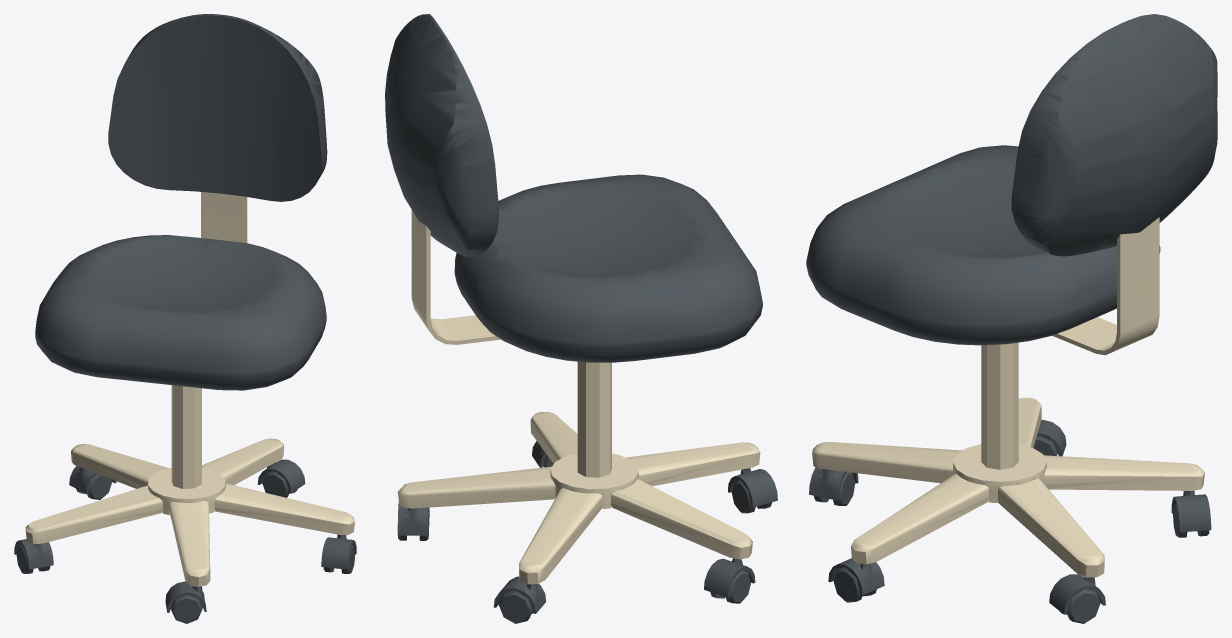
File: Chairs.fbx
The picture shows the model from 3 angles, left to right: view 1: azimuth 30°, elevation 25°; view 2: azimuth 150°, elevation 25°; view 3: azimuth 270°, elevation 25°; orthographic projection. The views are drawn at different scales.
Parts seen in each view (by area): view 1: geo_110, geo_109; view 2: geo_110, geo_109; view 3: geo_110, geo_109.
Part boxes in pixels (x1,y1,x2,y2): geo_110: [14, 14, 356, 623]; geo_109: [25, 192, 354, 586]; geo_110: [385, 14, 777, 623]; geo_109: [397, 210, 760, 584]; geo_110: [806, 14, 1217, 623]; geo_109: [812, 217, 1204, 577].
Size of the model in its own units: 57.07 by 85.34 by 55.61.
